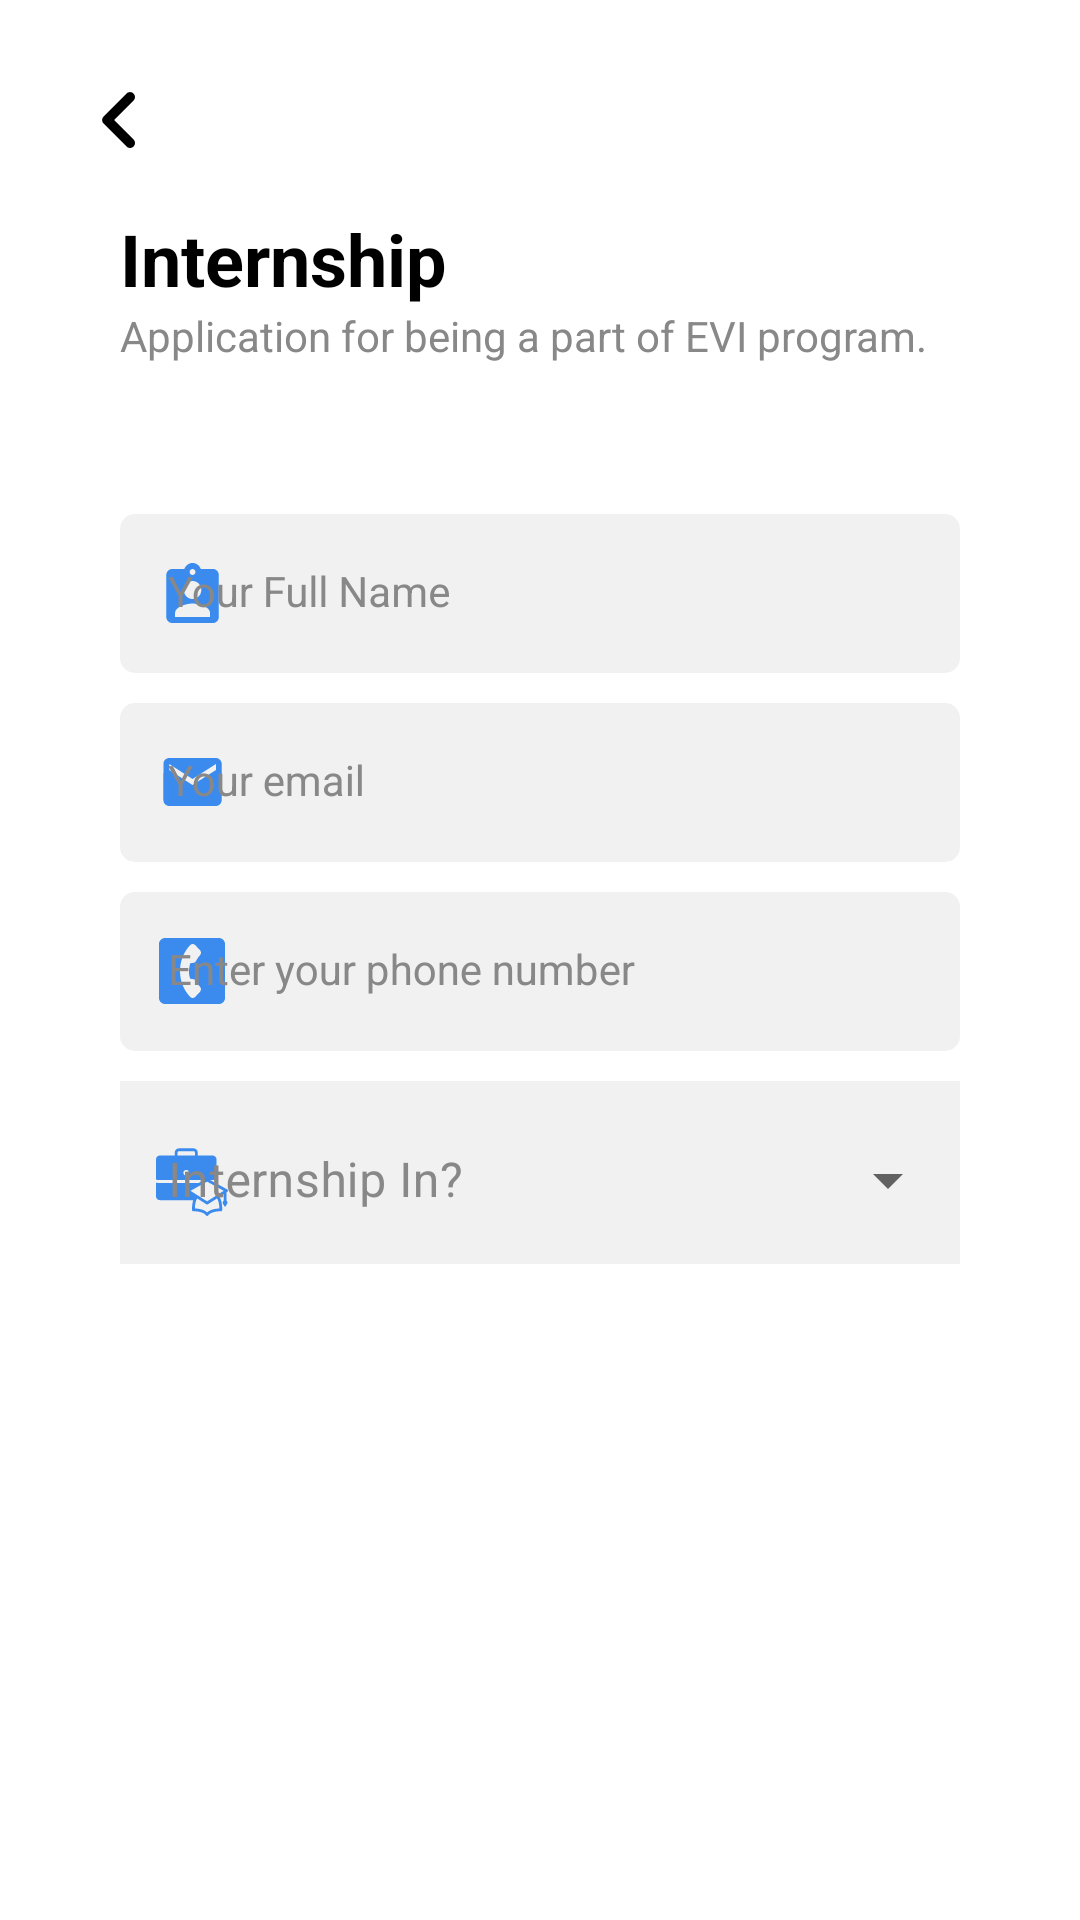

Locate icon controls on the screen. Image size 1080×1920, boxes as [x1=x1, y1=y1, x2=x2, y2=y2].
left: [x1=102, y1=92, x2=135, y2=148]
